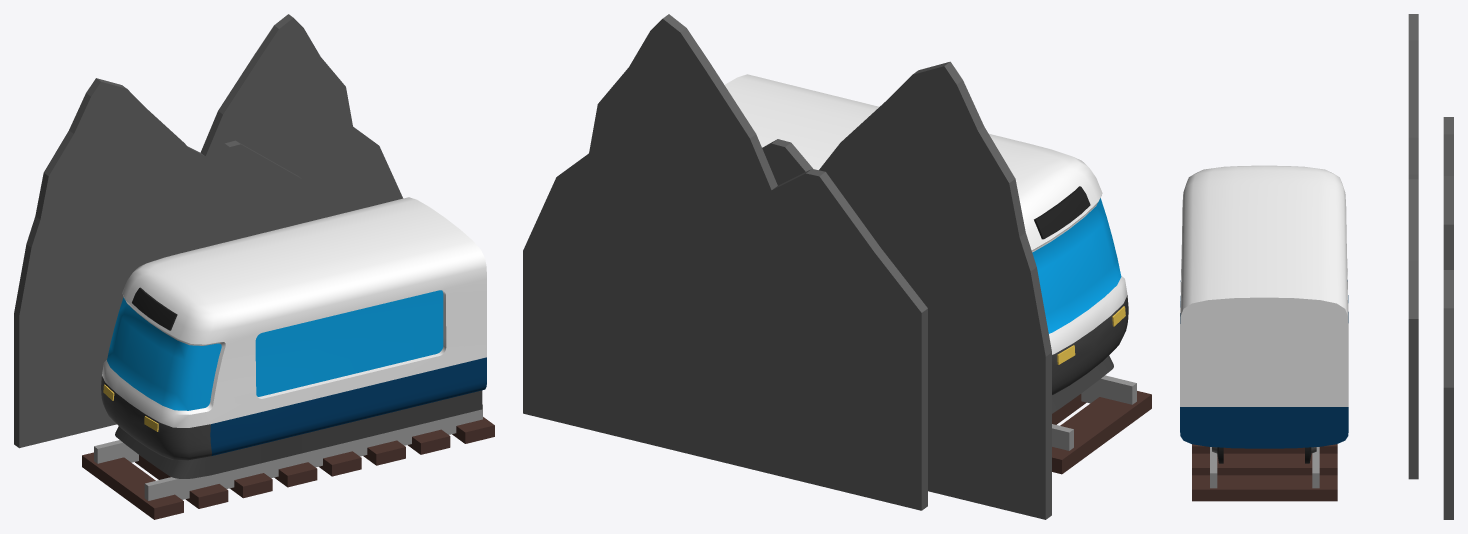
Rendered from mountain_railway.fbx.
3 views of the same model, side by side, from view 1: azimuth 30°, elevation 25°; view 2: azimuth 150°, elevation 25°; view 3: azimuth 270°, elevation 25° (orthographic). The views are drawn at different scales.
Visible parts, largest first — view 1: Cube.598; view 2: Cube.598; view 3: Cube.598.
Boxes of the visible parts, x1=… form: Cube.598: x1=14, y1=14, x2=494, y2=519; Cube.598: x1=523, y1=14, x2=1151, y2=519; Cube.598: x1=1180, y1=14, x2=1453, y2=519.
Bounding box in the file's own units: 269 × 220 × 157.
1 material, 1 textured.
